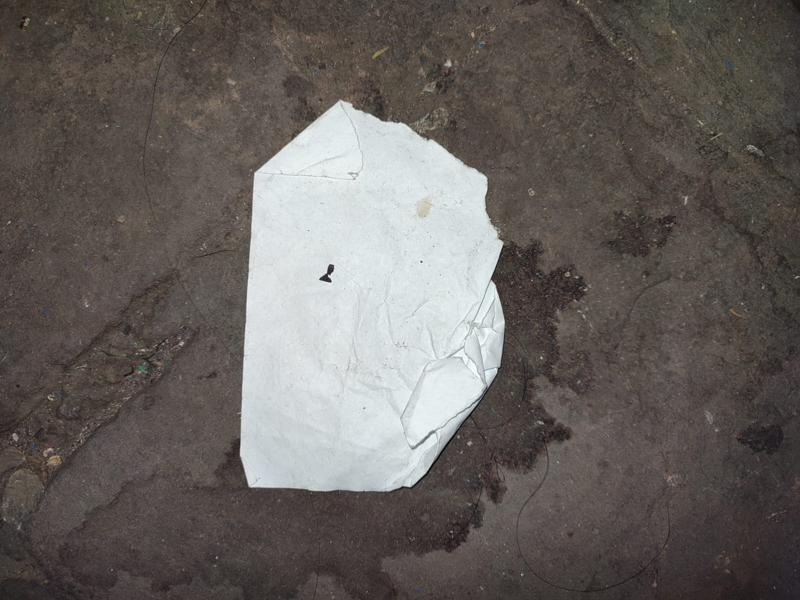papel: (238, 102, 508, 495)
